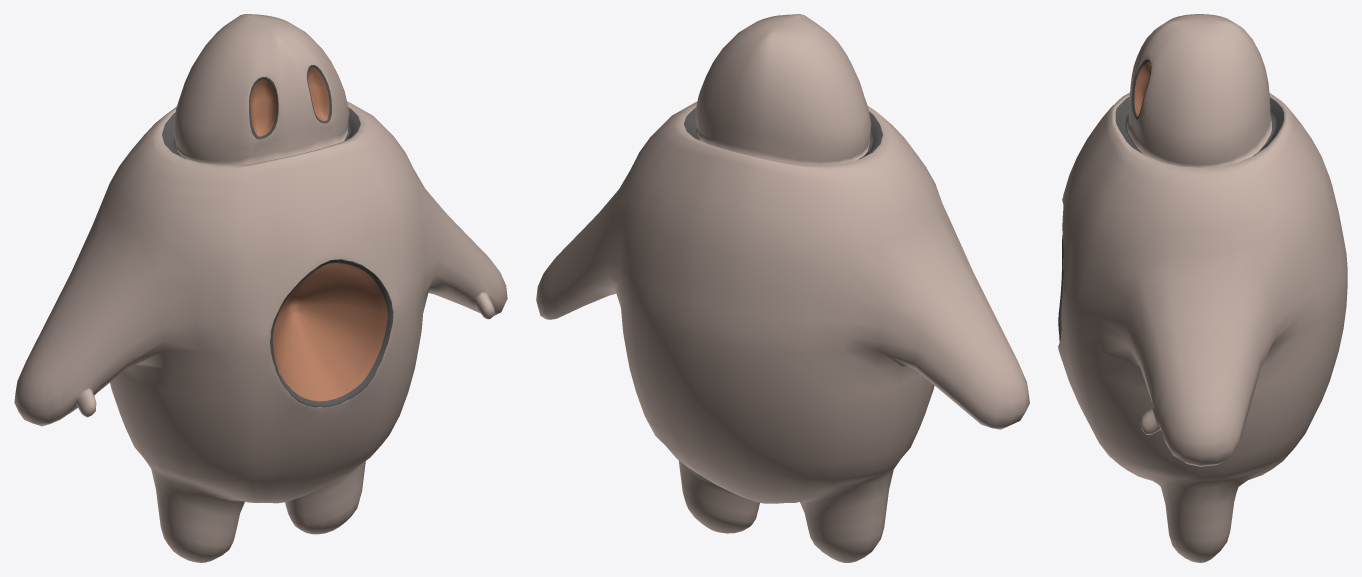
Rendered from biggolemshell.fbx.
The picture shows the model from 3 angles, left to right: view 1: azimuth 30°, elevation 25°; view 2: azimuth 150°, elevation 25°; view 3: azimuth 270°, elevation 25°; orthographic projection. The views are drawn at different scales.
Visible parts, largest first — view 1: golembigshell2; view 2: golembigshell2; view 3: golembigshell2.
Boxes of the visible parts, x1,y1,x2,y2 form: golembigshell2: (14, 14, 507, 562); golembigshell2: (536, 14, 1029, 562); golembigshell2: (1058, 14, 1347, 562).
Bounding box in the file's own units: 48.81 × 50.38 × 25.86.
